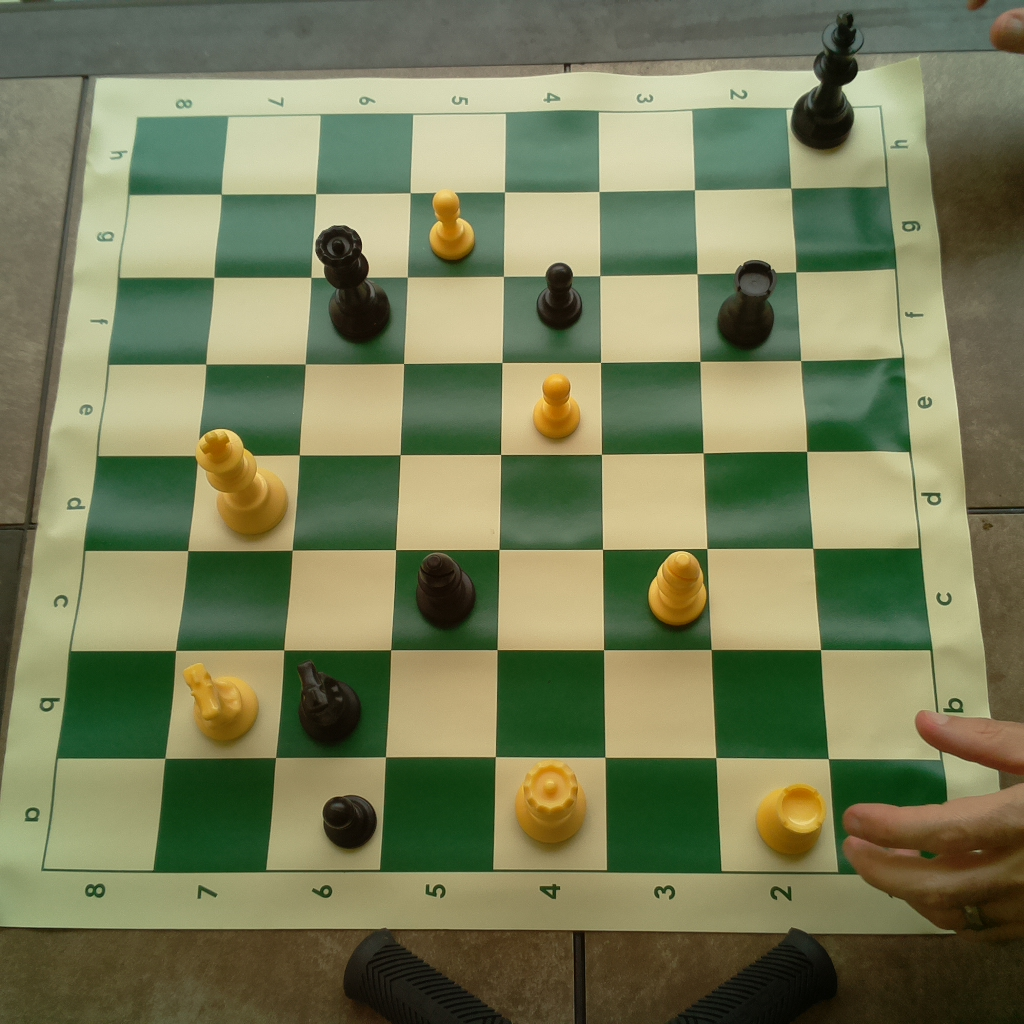black_bishop: (408, 549, 479, 634)
black_king: (786, 10, 866, 151)
black_knight: (283, 652, 367, 747)
black_pawn: (531, 257, 588, 330), (321, 791, 380, 856)
black_queen: (316, 222, 396, 345)
black_rook: (710, 253, 779, 349)
file_a: (41, 758, 954, 873)
file_b: (57, 652, 945, 761)
file_c: (70, 552, 933, 651)
file_d: (86, 452, 920, 548)
file_e: (99, 357, 912, 453)
file_f: (110, 266, 905, 360)
file_g: (121, 187, 897, 280)
file_h: (129, 109, 886, 190)
outline: (44, 109, 957, 874)
rank_1: (786, 104, 955, 875)
rank_2: (692, 109, 840, 871)
rank_3: (599, 109, 723, 870)
rank_4: (489, 110, 610, 870)
rank_5: (380, 114, 507, 870)
rank_6: (266, 114, 411, 873)
rank_7: (157, 113, 321, 871)
rank_8: (42, 117, 228, 871)
white_bishop: (641, 547, 711, 628)
white_king: (193, 421, 292, 535)
white_knight: (173, 657, 263, 743)
white_pawn: (425, 188, 481, 260), (533, 374, 585, 439)
white_queen: (508, 758, 594, 848)
white_rook: (753, 778, 832, 860)
